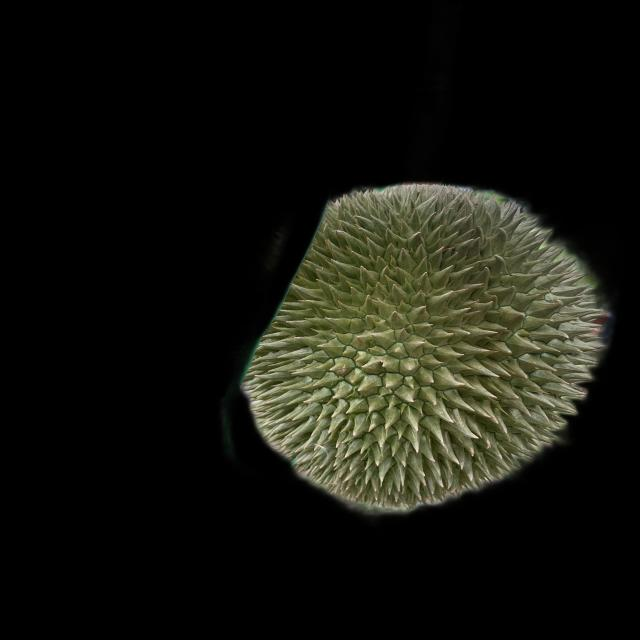immature: (243, 185, 612, 509)
